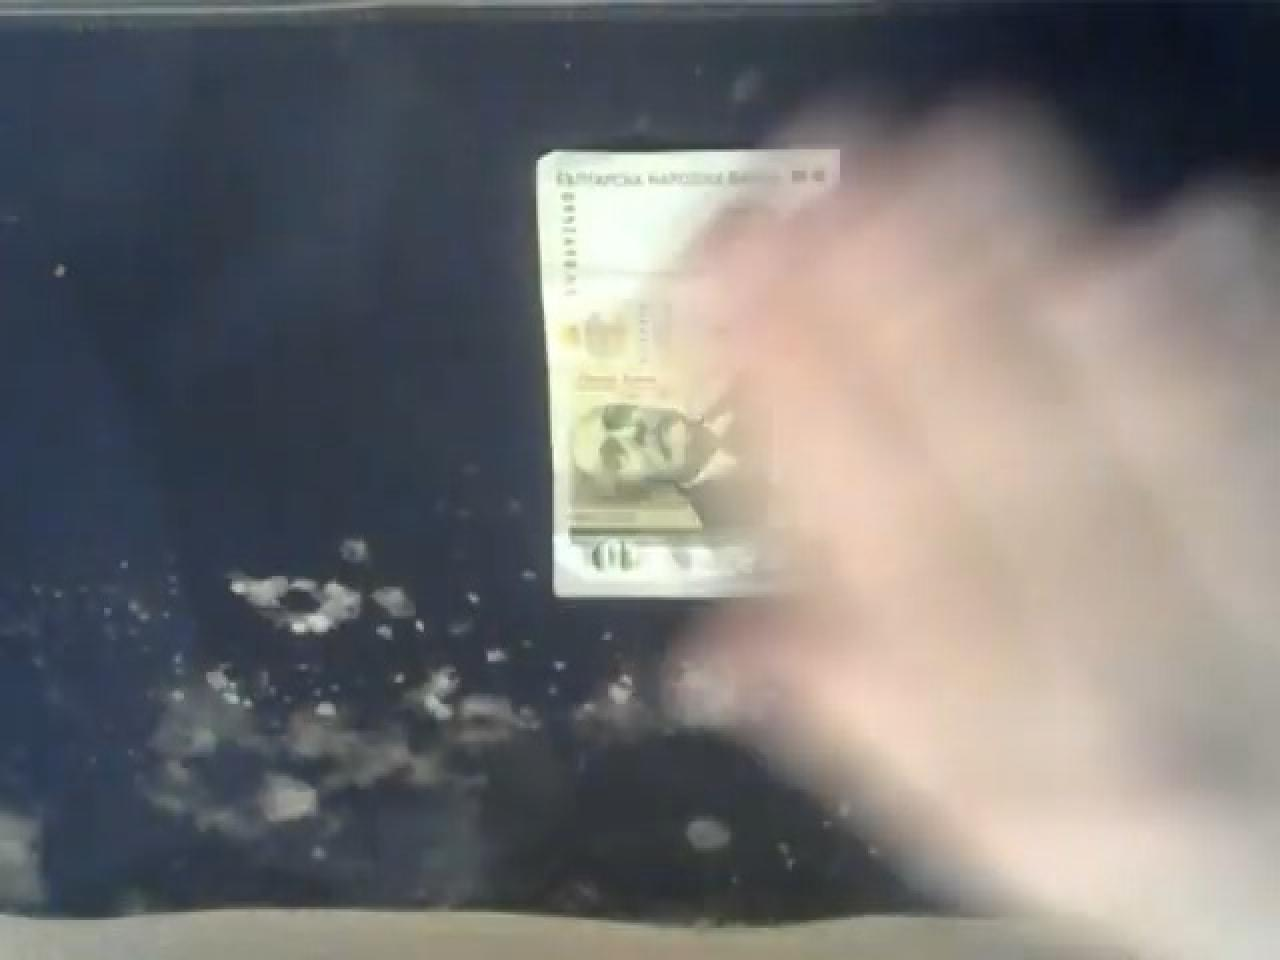10leva: (534, 144, 844, 605)
